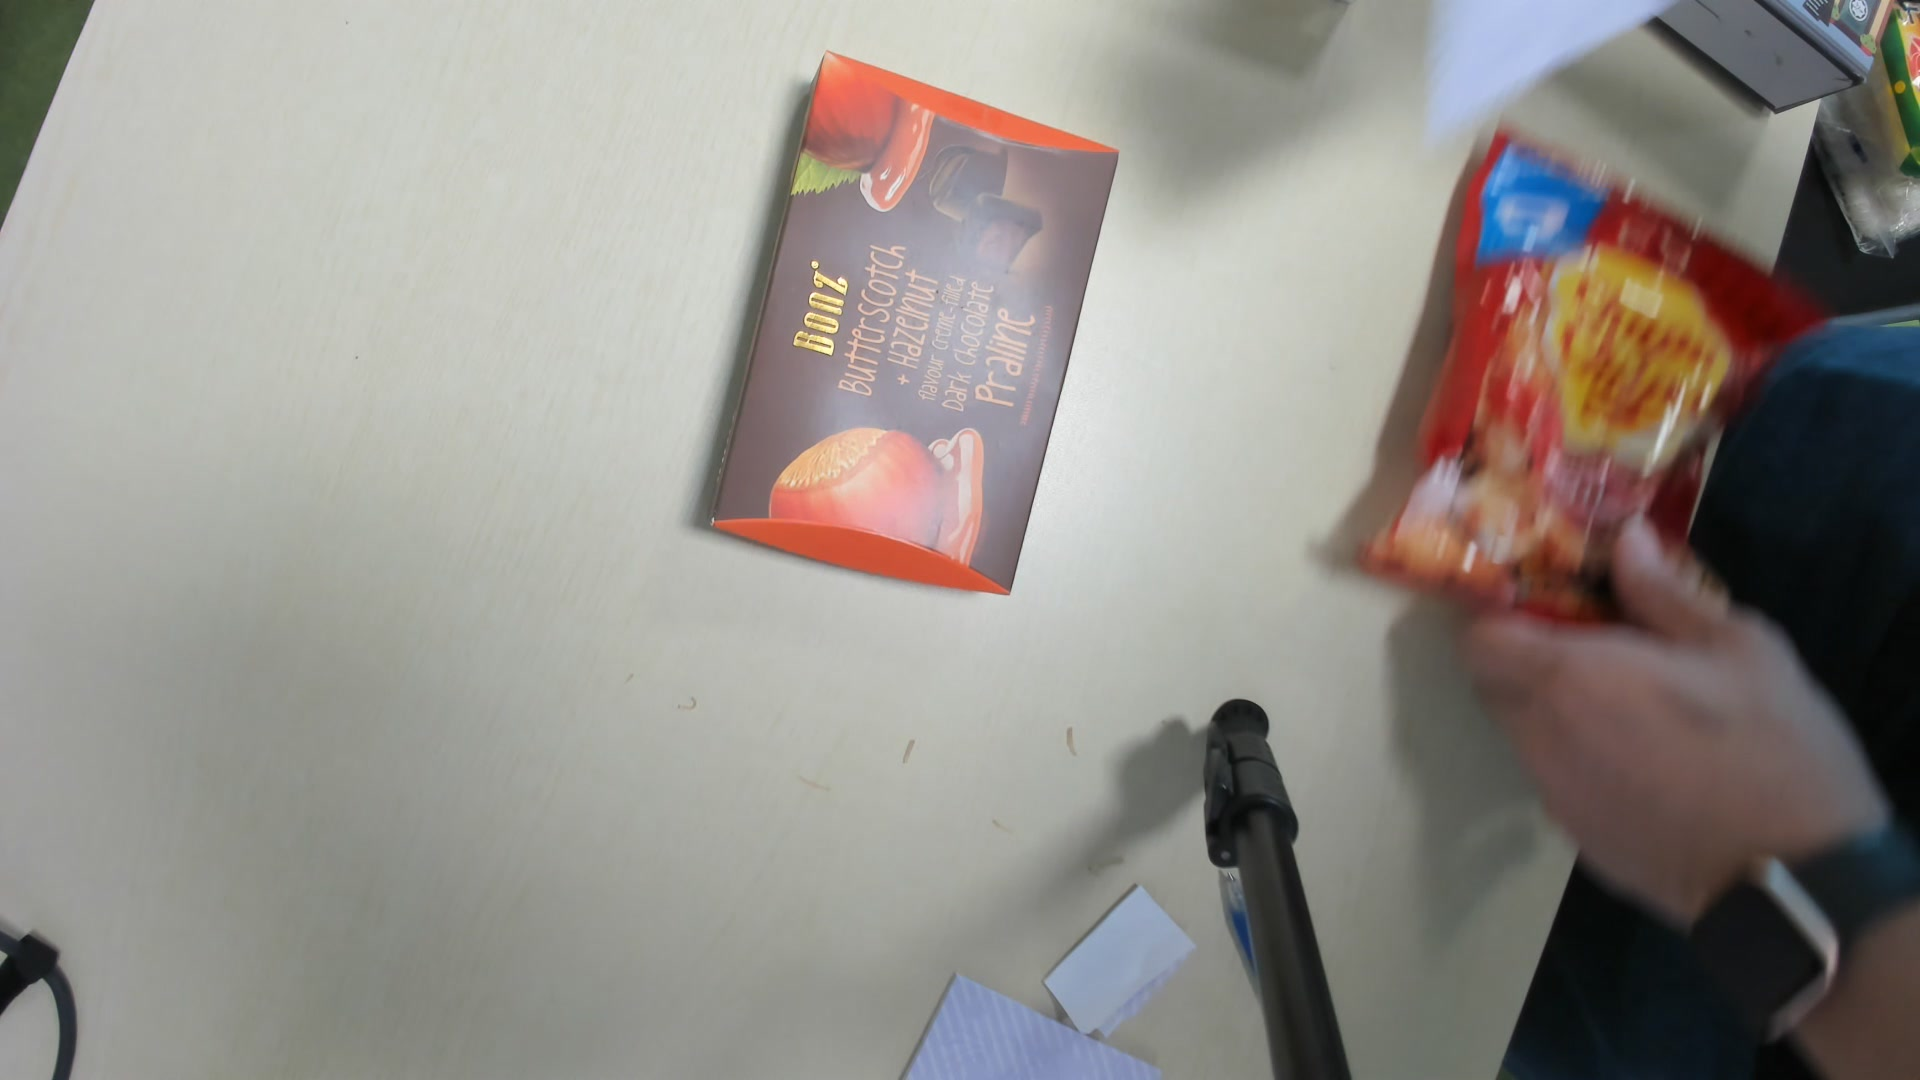SweetsChocolatesOthers_0-99g_NonHalal_Nonhealthy: (703, 42, 1106, 588)
